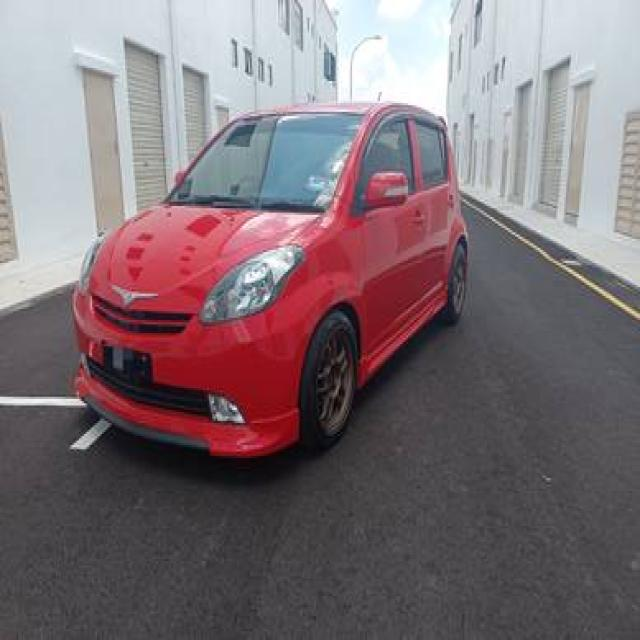PeroduaMyvi: (69, 96, 471, 462)
